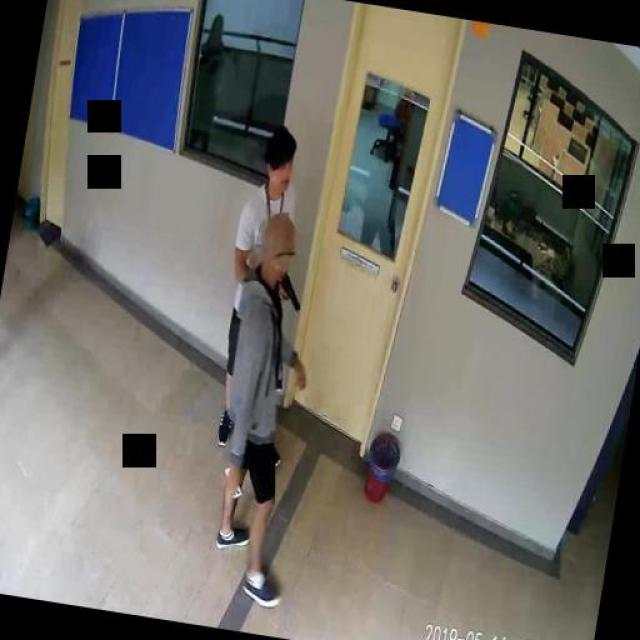gun: (274, 268, 304, 314)
